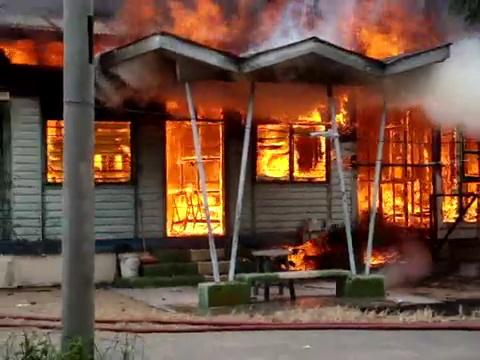fire: (97, 0, 447, 59), (379, 110, 480, 238), (391, 37, 480, 137), (256, 109, 326, 181), (166, 121, 207, 237), (199, 121, 223, 235), (95, 122, 131, 182), (0, 41, 62, 66), (46, 120, 64, 183), (358, 163, 373, 218)
